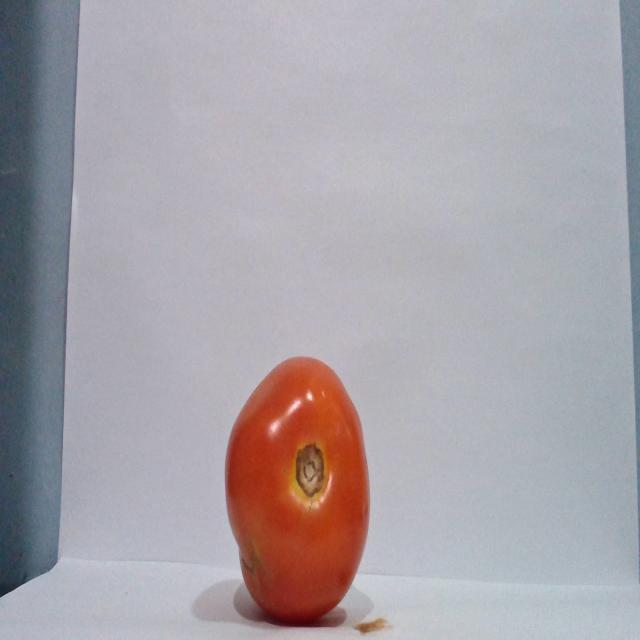Red: (223, 354, 371, 623)
